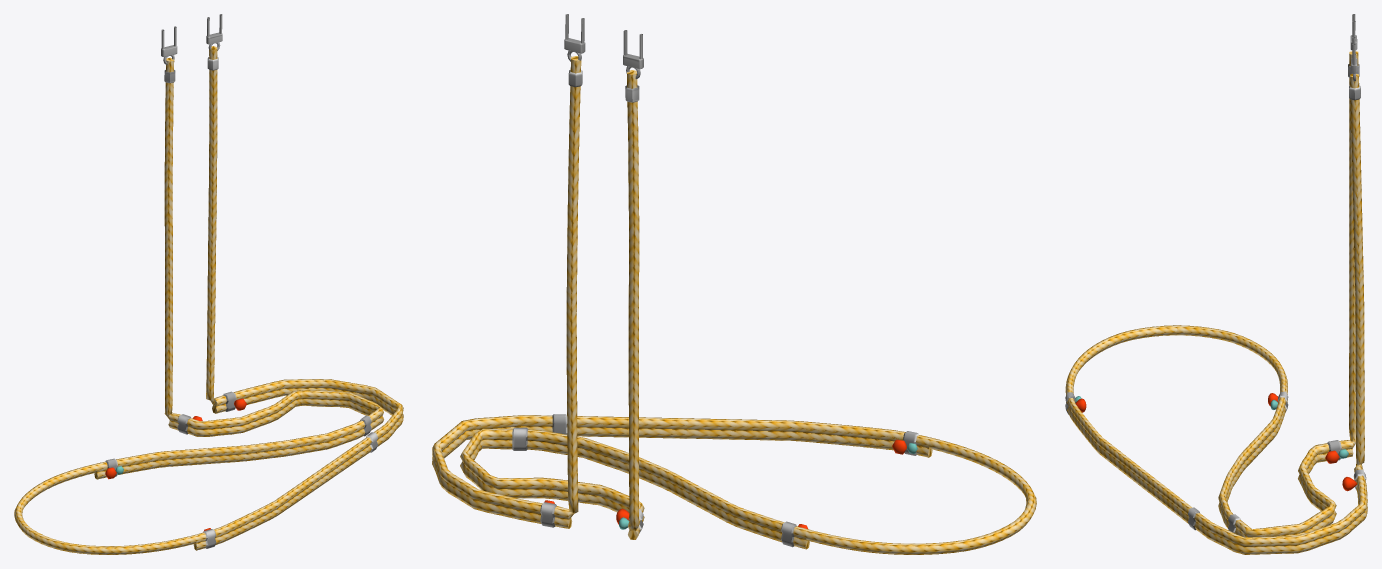
File: Strap01.fbx
3 views of the same model, side by side, from view 1: azimuth 30°, elevation 25°; view 2: azimuth 150°, elevation 25°; view 3: azimuth 270°, elevation 25° (orthographic). The views are drawn at different scales.
Parts seen in each view (by area): view 1: Strap01; view 2: Strap01; view 3: Strap01.
Part boxes in pixels (<box>): Strap01: <box>14,14,403,554</box>; Strap01: <box>432,14,1036,554</box>; Strap01: <box>1065,14,1367,554</box>.
Size of the model in its own units: 2474 by 2336 by 1444.
